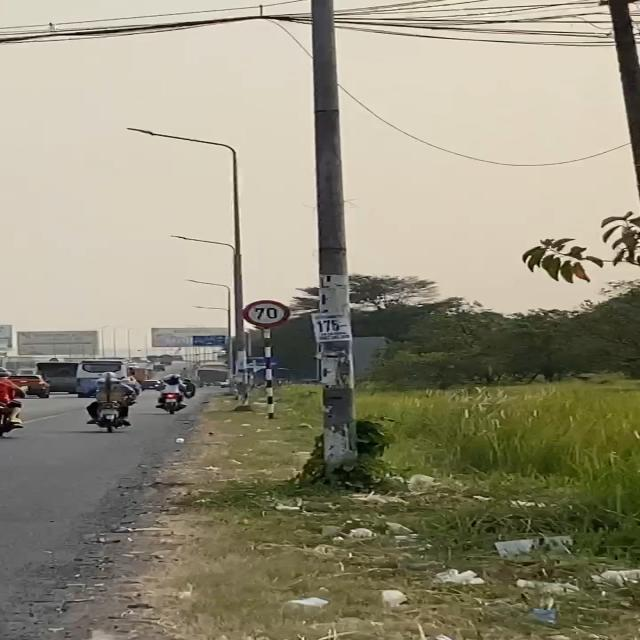127-toc-do-toi-da-70: (240, 299, 292, 329)
